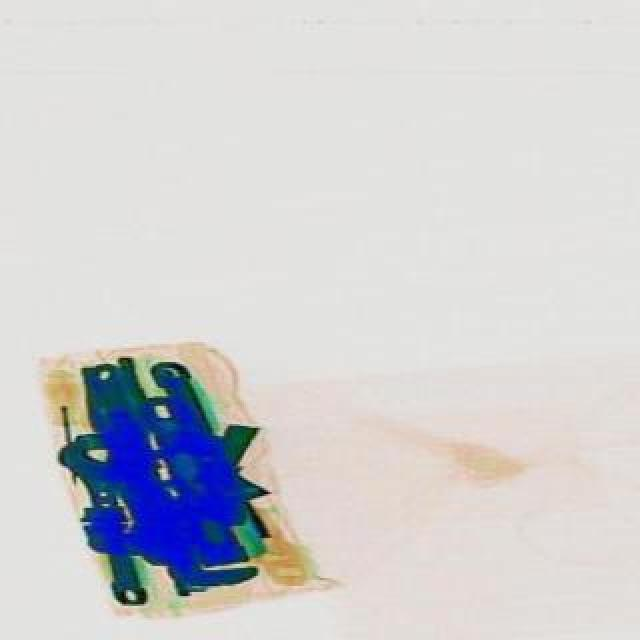scissors: (54, 430, 156, 610)
